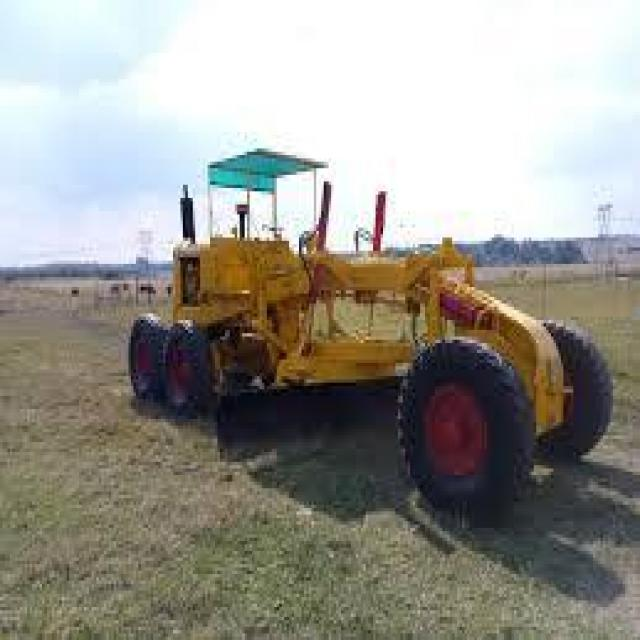Grader: (92, 89, 596, 538)
